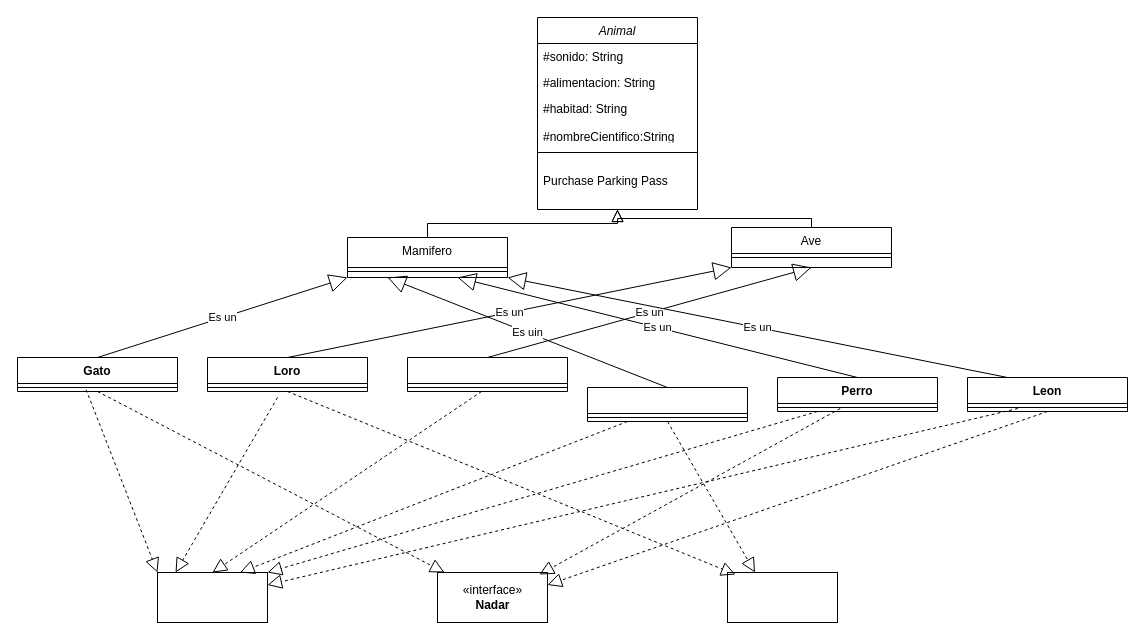
Some shapes in this 1145 by 640 pixel diagram are drawn without their labels. The centre of each missing label's shape, as x and y in pixels:
"Avestruz" belongs at (x=487, y=374).
"Murcielago" belongs at (x=667, y=404).
"«interface» Caminar" belongs at (x=212, y=597).
"«interface» Volar" belongs at (x=782, y=597).
